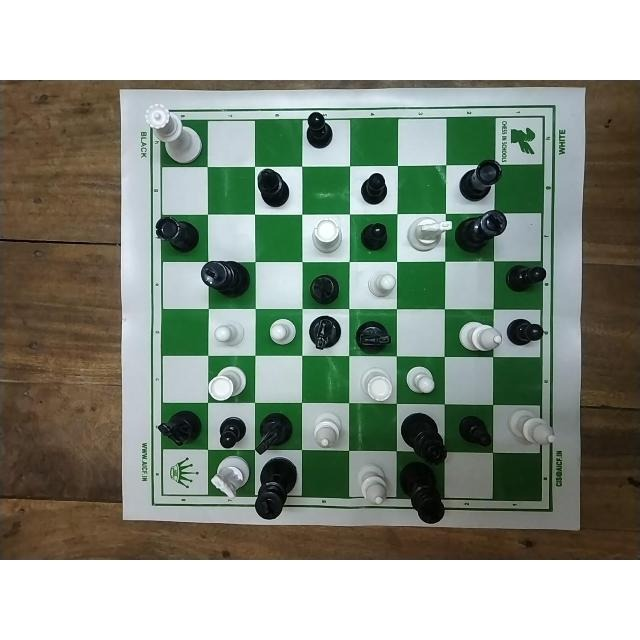black-bishop: (257, 168, 295, 208), (308, 273, 342, 307)
black-king: (198, 261, 252, 297)
black-knight: (250, 411, 292, 461), (355, 311, 395, 355), (157, 410, 200, 449), (307, 316, 343, 352)
black-pawn: (458, 411, 494, 450), (302, 111, 334, 153), (506, 317, 546, 349), (502, 267, 547, 295), (215, 413, 247, 449), (357, 220, 390, 254), (362, 172, 390, 204)
white-bishop: (505, 407, 558, 455), (458, 315, 508, 361), (356, 457, 392, 509), (312, 411, 346, 451)
white-knight: (210, 450, 249, 502), (409, 216, 455, 257)
white-pawn: (364, 268, 399, 307), (211, 318, 250, 350), (406, 364, 442, 397), (266, 314, 297, 350)
white-queen: (141, 102, 202, 166)
white-rook: (206, 365, 250, 403), (359, 362, 395, 403), (310, 217, 343, 253)
